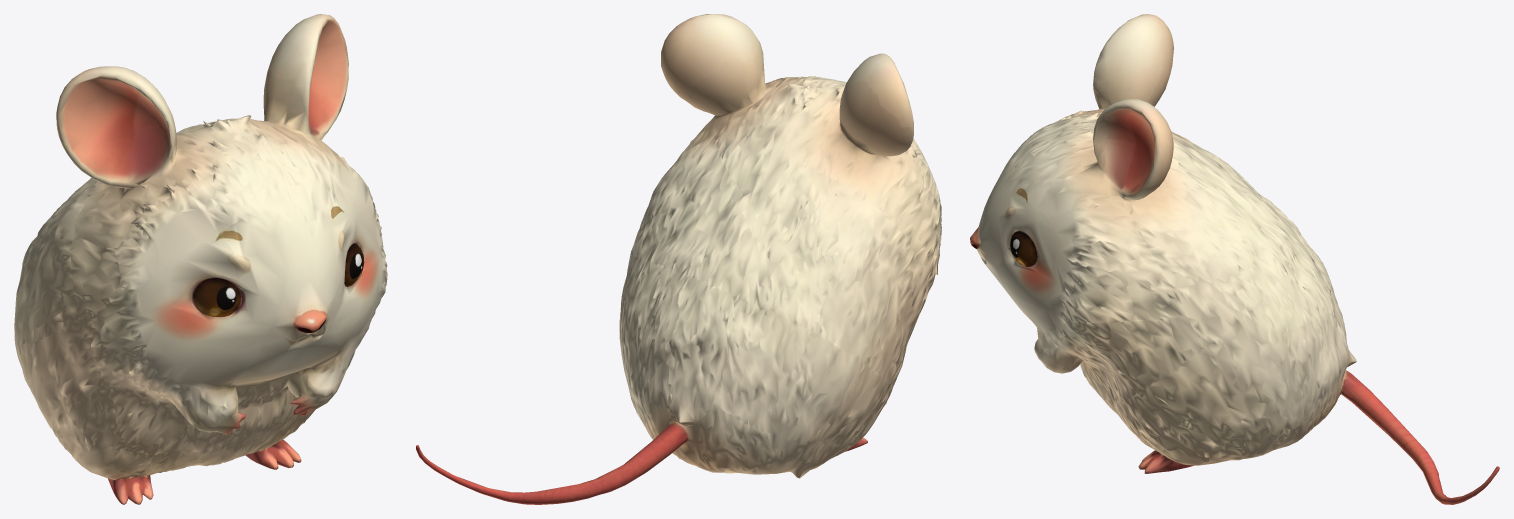
The model's file is lingshu.glb.
3 renders of one model, left to right at view 1: azimuth 30°, elevation 25°; view 2: azimuth 150°, elevation 25°; view 3: azimuth 270°, elevation 25°, orthographic. The views are drawn at different scales.
Size of the model in its own units: 1.31 by 1.49 by 1.9.
Materials: 1 (1 with a texture image).
